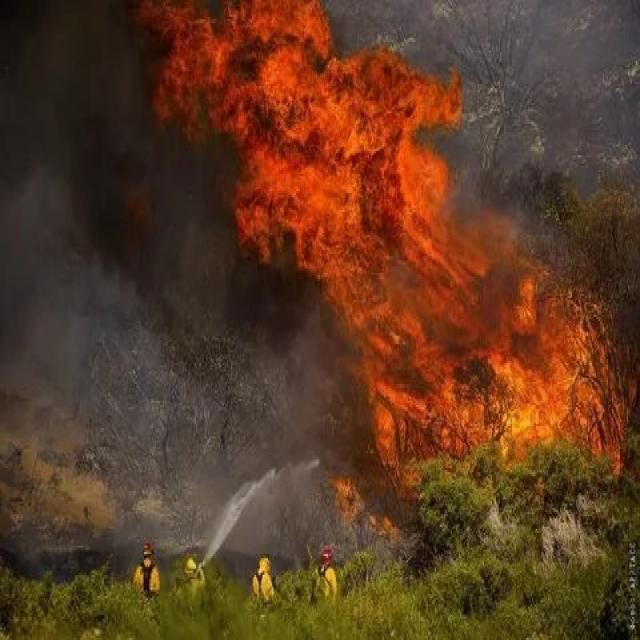Fire: (198, 0, 640, 505)
Smoke: (0, 0, 250, 598)
